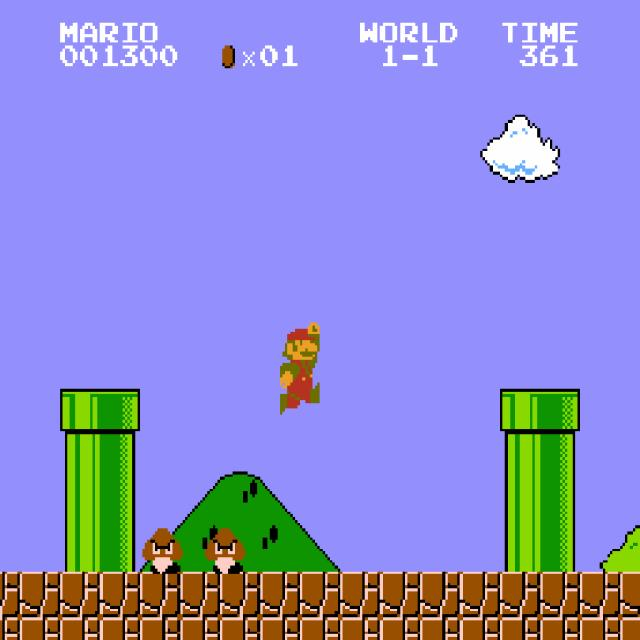big_mario: (277, 320, 320, 414)
goomba: (140, 526, 183, 574), (203, 526, 245, 574)
pipe: (60, 434, 100, 480), (60, 480, 100, 526), (100, 434, 140, 480), (100, 480, 140, 526), (500, 434, 540, 480), (500, 480, 540, 526), (540, 434, 580, 480), (540, 480, 580, 526), (60, 526, 100, 571), (100, 526, 140, 571), (500, 526, 540, 571), (540, 526, 580, 571)
pipe_head: (60, 389, 100, 434), (100, 389, 140, 434), (500, 389, 540, 434), (540, 389, 580, 434)
undestructible_block: (20, 572, 60, 617), (60, 572, 100, 617), (100, 572, 140, 617), (140, 572, 180, 617), (180, 572, 220, 617), (220, 572, 260, 617), (260, 572, 300, 617), (300, 572, 340, 617), (340, 572, 380, 617), (380, 572, 420, 617), (420, 572, 460, 617), (460, 572, 500, 617), (500, 572, 540, 617), (540, 572, 580, 617), (580, 572, 620, 617), (20, 617, 60, 640), (60, 617, 100, 640), (100, 617, 140, 640), (140, 617, 180, 640), (180, 617, 220, 640), (220, 617, 260, 640), (260, 617, 300, 640), (300, 617, 340, 640), (340, 617, 380, 640), (380, 617, 420, 640), (420, 617, 460, 640), (460, 617, 500, 640), (500, 617, 540, 640), (540, 617, 580, 640), (580, 617, 620, 640), (0, 572, 20, 617), (620, 572, 640, 617), (0, 617, 20, 640), (620, 617, 640, 640)
